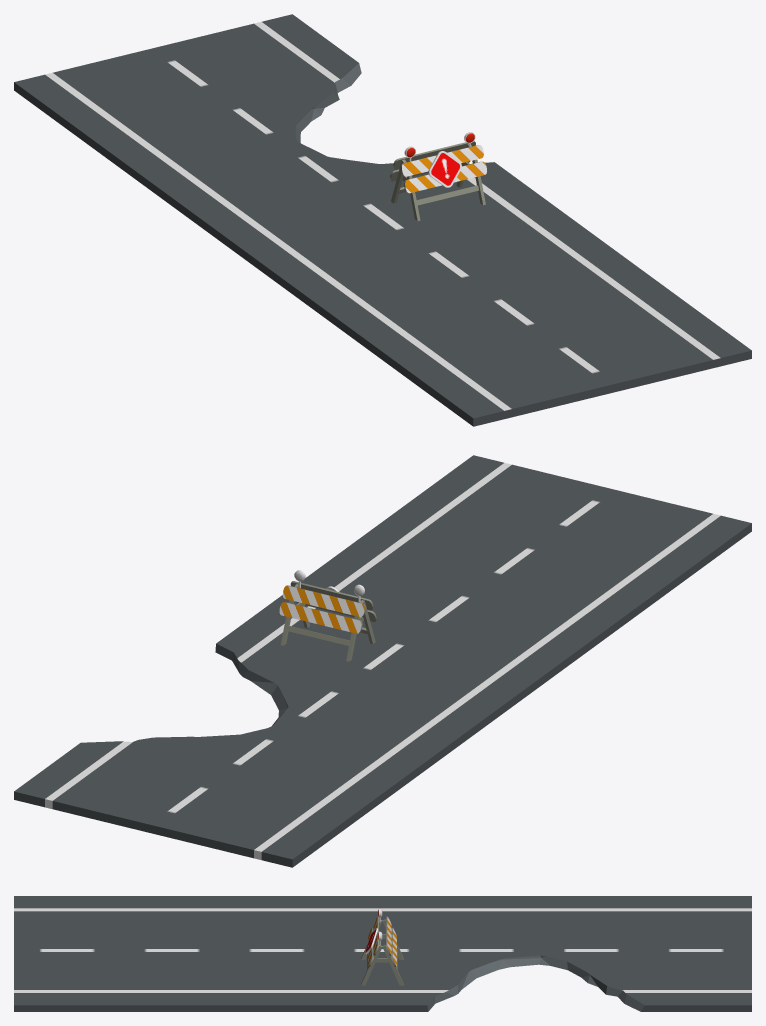
File: Block.gltf
The picture shows the model from 3 angles, top to bottom: view 1: azimuth 30°, elevation 25°; view 2: azimuth 150°, elevation 25°; view 3: azimuth 270°, elevation 25°; orthographic projection. The views are drawn at different scales.
Parts seen in each view (by area): view 1: StraightDestroyed, Block, Sign; view 2: StraightDestroyed, Block; view 3: StraightDestroyed, Block.
Boxes of the visible parts, x1,y1,x2,y2 form: StraightDestroyed: (14,14,751,426); Block: (389,140,486,220); Sign: (428,151,461,187); StraightDestroyed: (14,455,751,867); Block: (279,581,376,661); StraightDestroyed: (14,896,751,1011); Block: (361,916,403,985).
Size of the model in its own units: 7 by 1.75 by 20.
Materials: 9 (3 with a texture image).
